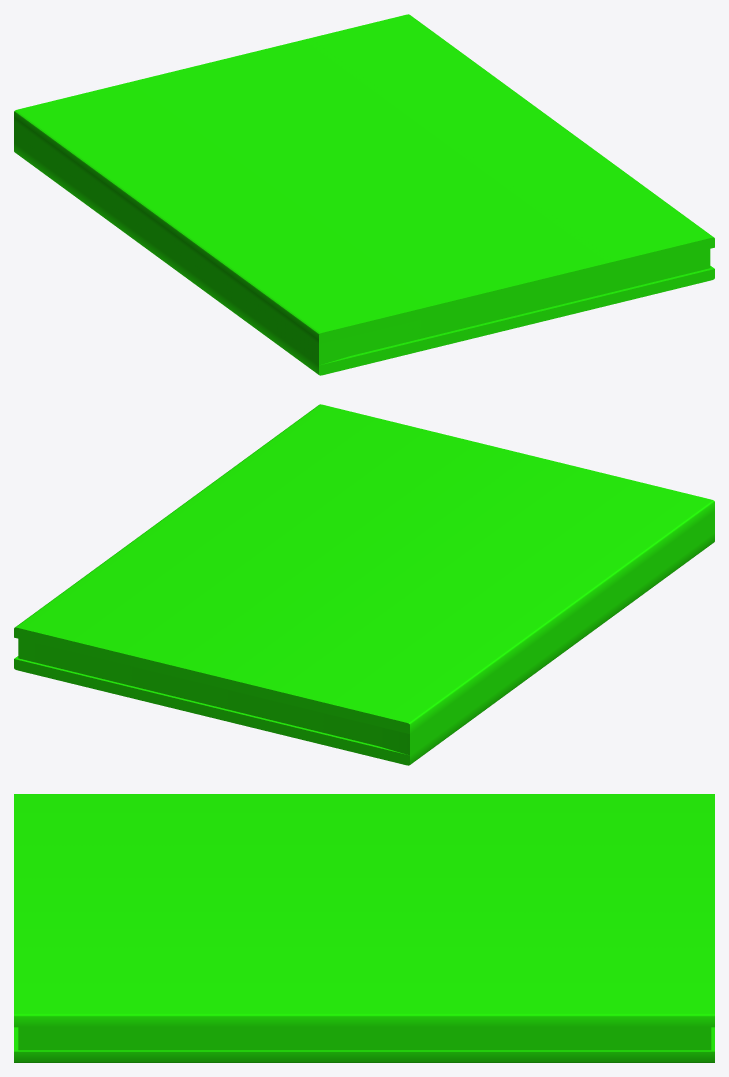
Rendered from umgebung_heft_geschlossen_low.FBX.
3 views of the same model, one above another, from view 1: azimuth 30°, elevation 25°; view 2: azimuth 150°, elevation 25°; view 3: azimuth 270°, elevation 25° (orthographic). The views are drawn at different scales.
Parts seen in each view (by area): view 1: o_schmudelheft_geschlossen_low; view 2: o_schmudelheft_geschlossen_low; view 3: o_schmudelheft_geschlossen_low.
Boxes of the visible parts, x1,y1,x2,y2 form: o_schmudelheft_geschlossen_low: (14,14,714,375); o_schmudelheft_geschlossen_low: (14,404,714,765); o_schmudelheft_geschlossen_low: (14,794,714,1062).
Bounding box in the file's own units: 21 × 28 × 2.16.
